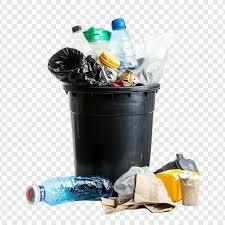Trash: (23, 1, 221, 219)
